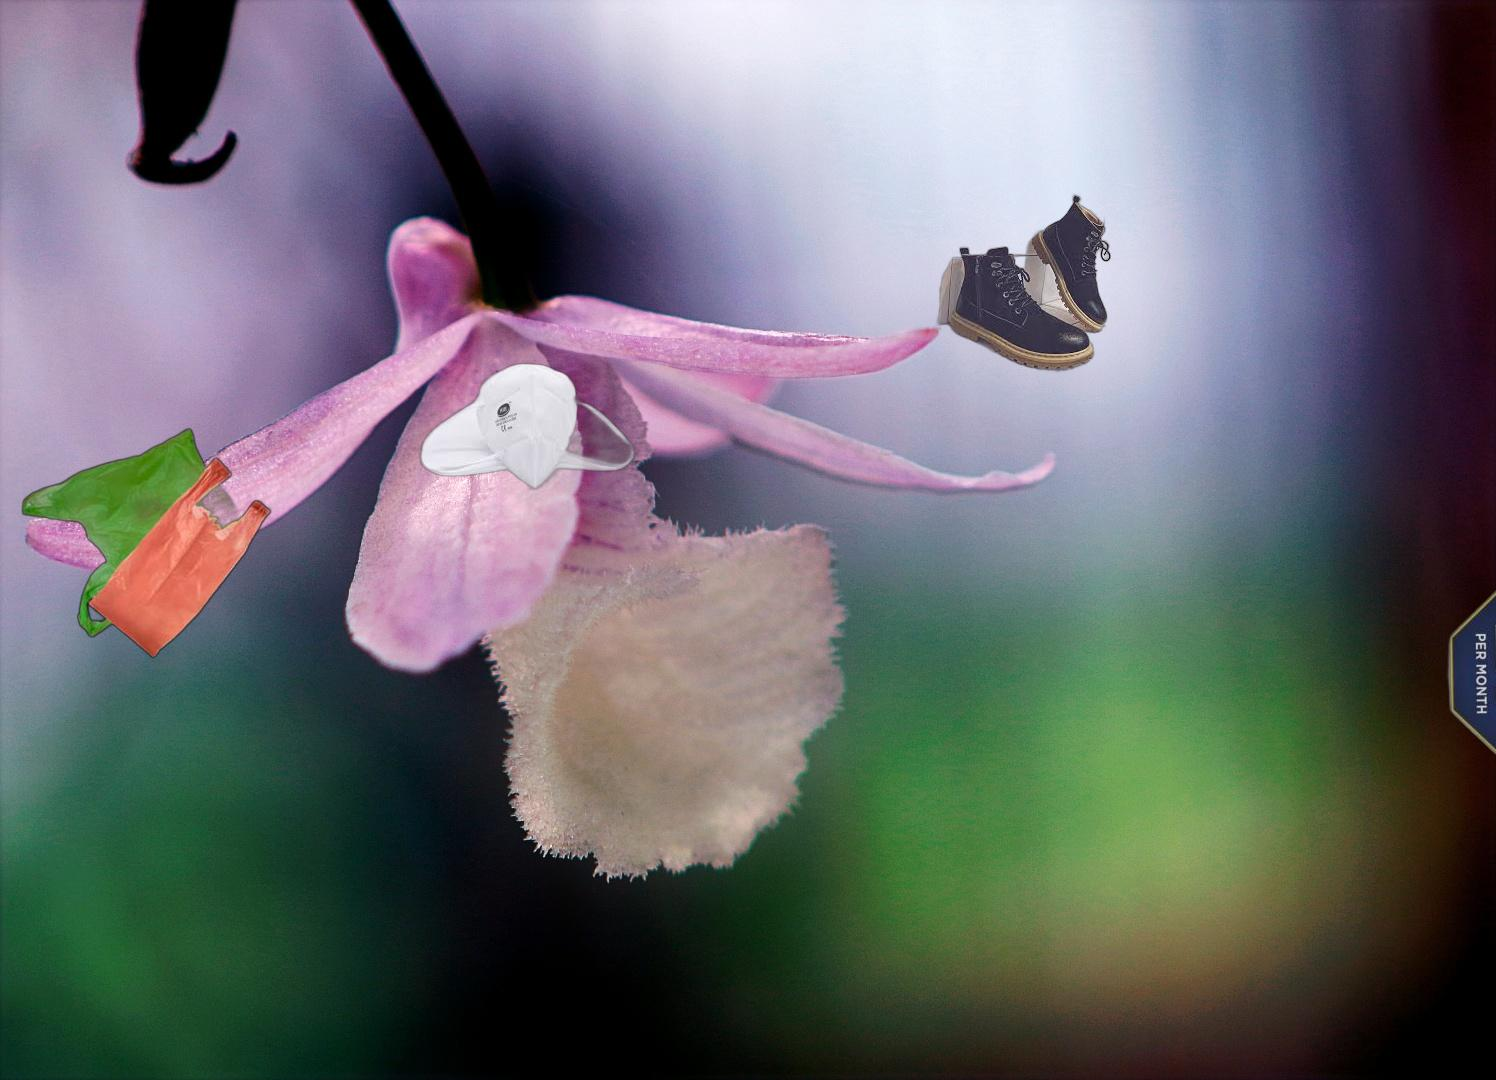paper: (1441, 543, 1496, 797)
plastic-bag: (21, 425, 274, 658)
shoes: (925, 189, 1113, 374)
trash: (417, 360, 640, 501)
